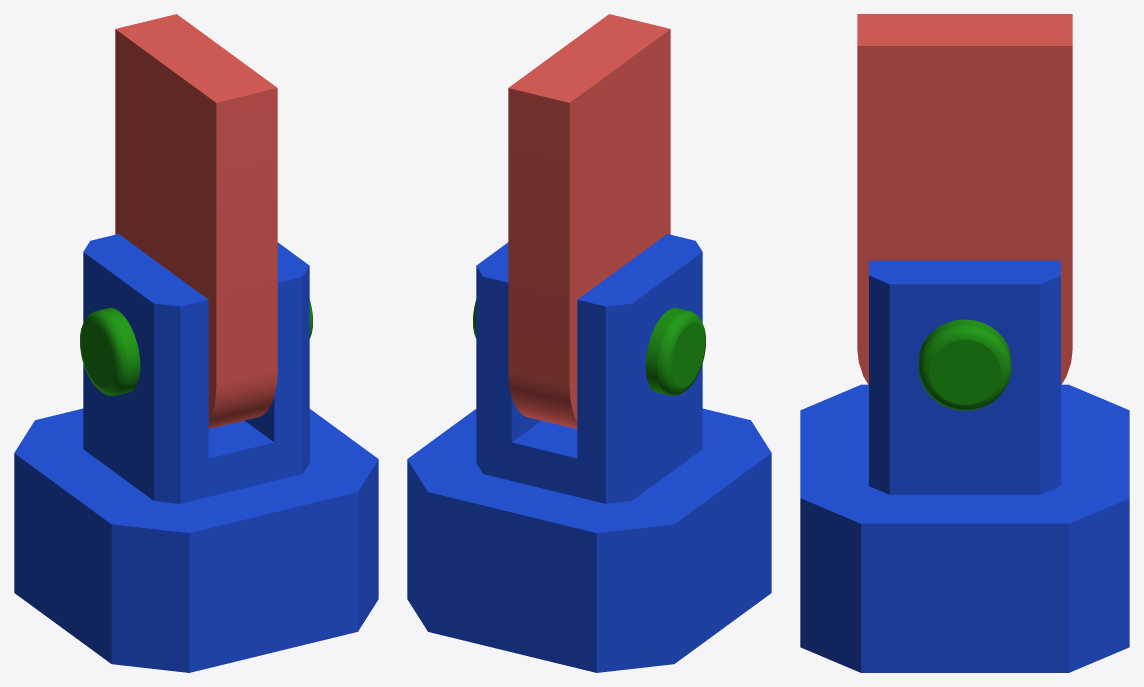
The model's file is RobotArm.glb.
3 renders of one model, left to right at view 1: azimuth 30°, elevation 25°; view 2: azimuth 150°, elevation 25°; view 3: azimuth 270°, elevation 25°, orthographic. The views are drawn at different scales.
Parts seen in each view (by area): view 1: Base, Arm, Holder; view 2: Base, Arm, Holder; view 3: Base, Arm, Holder.
Part boxes in pixels (x1,y1,x2,y2): Base: [14, 234, 378, 672]; Arm: [115, 14, 277, 428]; Holder: [80, 300, 312, 395]; Base: [407, 234, 771, 672]; Arm: [508, 14, 670, 428]; Holder: [473, 300, 705, 395]; Base: [800, 260, 1129, 672]; Arm: [857, 14, 1072, 385]; Holder: [918, 319, 1011, 410].
Size of the model in its own units: 2 by 3.84 by 2.
